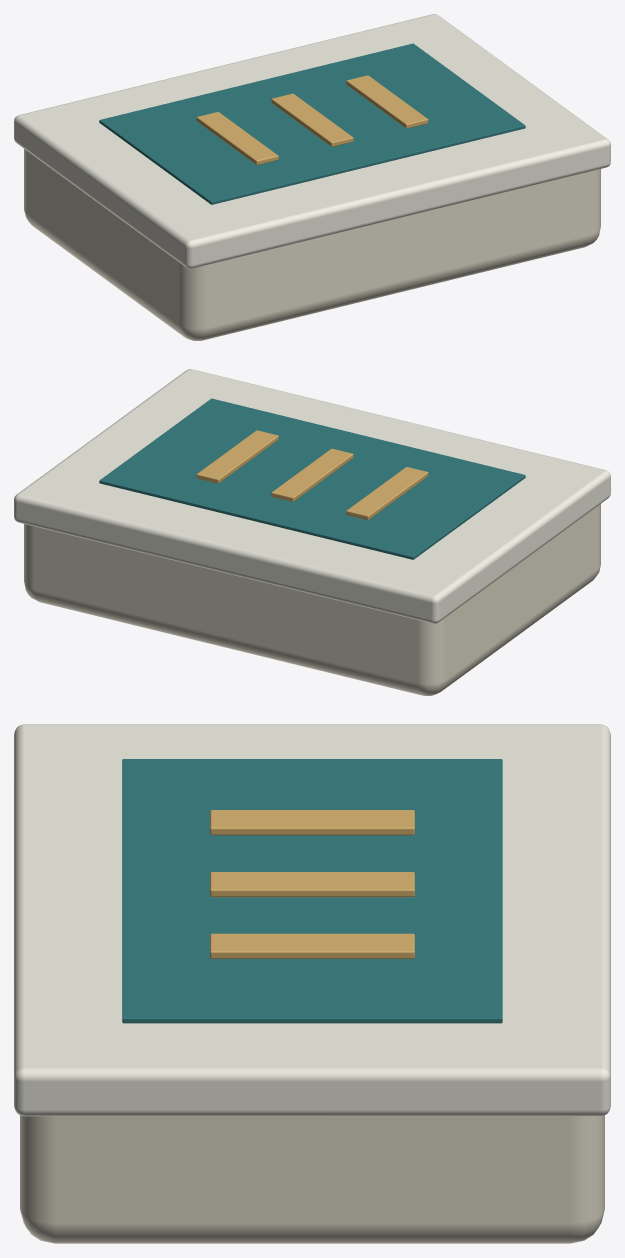
File: tabletop-hobby-store-and-club-boxed-model-kit-65e8bcb8__31576.glb
3 views of the same model, one above another, from view 1: azimuth 30°, elevation 25°; view 2: azimuth 150°, elevation 25°; view 3: azimuth 270°, elevation 25° (orthographic). The views are drawn at different scales.
Parts seen in each view (by area): view 1: boxed-model-kit; view 2: boxed-model-kit; view 3: boxed-model-kit.
Part boxes in pixels (<box>): boxed-model-kit: <box>14,14,610,340</box>; boxed-model-kit: <box>14,369,610,695</box>; boxed-model-kit: <box>14,724,610,1243</box>.
Bounding box in the file's own units: 0.284 × 0.076 × 0.204.
